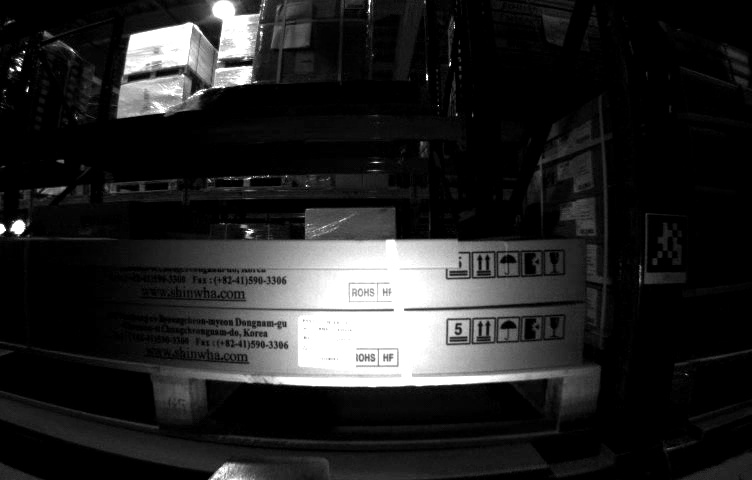True Barcode: (297, 312, 354, 370)
